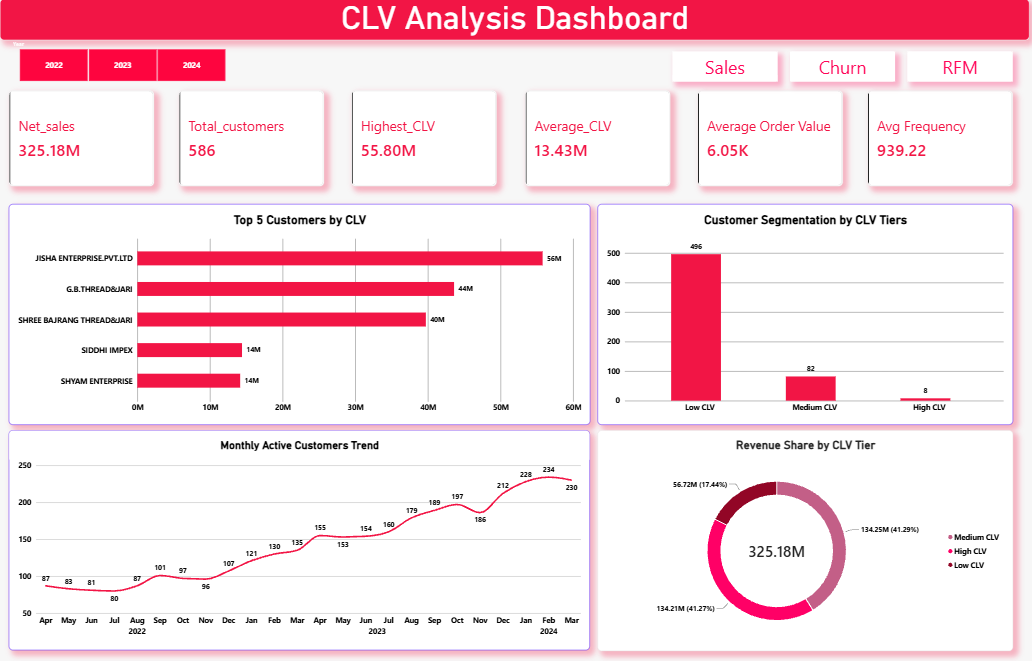

What the dashboard file says about the page in this screenshot:
{"tool":"powerbi","page":{"name":"CLV","canvas":[2560,1440],"ordinal":4},"visuals":[{"type":"shape","title":"CLV Analysis Dashboard","box":[0,0,1920,76.7],"z":0},{"type":"cardVisual","fields":{"Data":["cleanfile.Net_sales"]},"box":[15.3,170.2,271.4,179.2],"z":1000},{"type":"cardVisual","fields":{"Data":["cleanfile.Total_customers"]},"box":[333.7,170.2,271.4,179.2],"z":2000},{"type":"cardVisual","fields":{"Data":["cleanfile.Highest_CLV"]},"box":[655.3,170.2,271.4,179.2],"z":3000},{"type":"cardVisual","fields":{"Data":["cleanfile.Average_CLV"]},"box":[980.3,170.2,271.4,179.2],"z":4000},{"type":"cardVisual","fields":{"Data":["cleanfile.Average Order Value"]},"box":[1300.3,170.2,271.4,179.2],"z":5000},{"type":"cardVisual","fields":{"Data":["cleanfile.Avg Frequency"]},"box":[1618.7,170.2,271.4,179.2],"z":6000},{"type":"clusteredBarChart","title":"Top  5 Customers by CLV","fields":{"Category":["cleanfile.Customer Name"],"Y":["Avg(cleanfile.Customer_CLV)"]},"box":[15.3,381.9,1085,411.7],"z":7000},{"type":"clusteredColumnChart","title":"Customer Segmentation by CLV Tiers","fields":{"Category":["cleanfile.CLV_Tier"],"Y":["cleanfile.Total_customers"]},"box":[1115.3,381.9,775,411.7],"z":8000},{"type":"lineChart","title":"Monthly Active Customers Trend","fields":{"Category":["DateTable.Year","DateTable.Month"],"Y":["cleanfile.Active Customer"]},"box":[16,805.2,1084,410],"z":9000},{"type":"donutChart","title":"Revenue Share by CLV Tier","fields":{"Category":["cleanfile.CLV_Tier"],"Y":["cleanfile.Net_sales"]},"box":[1115.3,803.5,775,411.7],"z":10000},{"type":"slicer","fields":{"Values":["DateTable.Year"]},"box":[16,76,423.3,78.3],"z":11000},{"type":"actionButton","title":"Sales Dashboard","box":[1253.6,98,196,56],"z":12000},{"type":"actionButton","title":"Sales Dashboard","box":[1693.6,98,196,56],"z":13000},{"type":"actionButton","title":"Sales Dashboard","box":[1473.6,98,196,56],"z":14000}]}

Visuals, with their boxes on the page's 2560x1440 design canvas (x1, y1, x2, y2). These are canvas units, not pixel positions in the 1032x661 screenshot, which may show the page scaled, cropped or inside an application window:
"CLV Analysis Dashboard" shape: <bbox>0, 0, 1920, 77</bbox>
cardVisual - cleanfile.Net_sales: <bbox>15, 170, 287, 349</bbox>
cardVisual - cleanfile.Total_customers: <bbox>334, 170, 605, 349</bbox>
cardVisual - cleanfile.Highest_CLV: <bbox>655, 170, 927, 349</bbox>
cardVisual - cleanfile.Average_CLV: <bbox>980, 170, 1252, 349</bbox>
cardVisual - cleanfile.Average Order Value: <bbox>1300, 170, 1572, 349</bbox>
cardVisual - cleanfile.Avg Frequency: <bbox>1619, 170, 1890, 349</bbox>
"Top  5 Customers by CLV" clusteredBarChart: <bbox>15, 382, 1100, 794</bbox>
"Customer Segmentation by CLV Tiers" clusteredColumnChart: <bbox>1115, 382, 1890, 794</bbox>
"Monthly Active Customers Trend" lineChart: <bbox>16, 805, 1100, 1215</bbox>
"Revenue Share by CLV Tier" donutChart: <bbox>1115, 804, 1890, 1215</bbox>
slicer - DateTable.Year: <bbox>16, 76, 439, 154</bbox>
"Sales Dashboard" actionButton: <bbox>1254, 98, 1450, 154</bbox>
"Sales Dashboard" actionButton: <bbox>1694, 98, 1890, 154</bbox>
"Sales Dashboard" actionButton: <bbox>1474, 98, 1670, 154</bbox>
